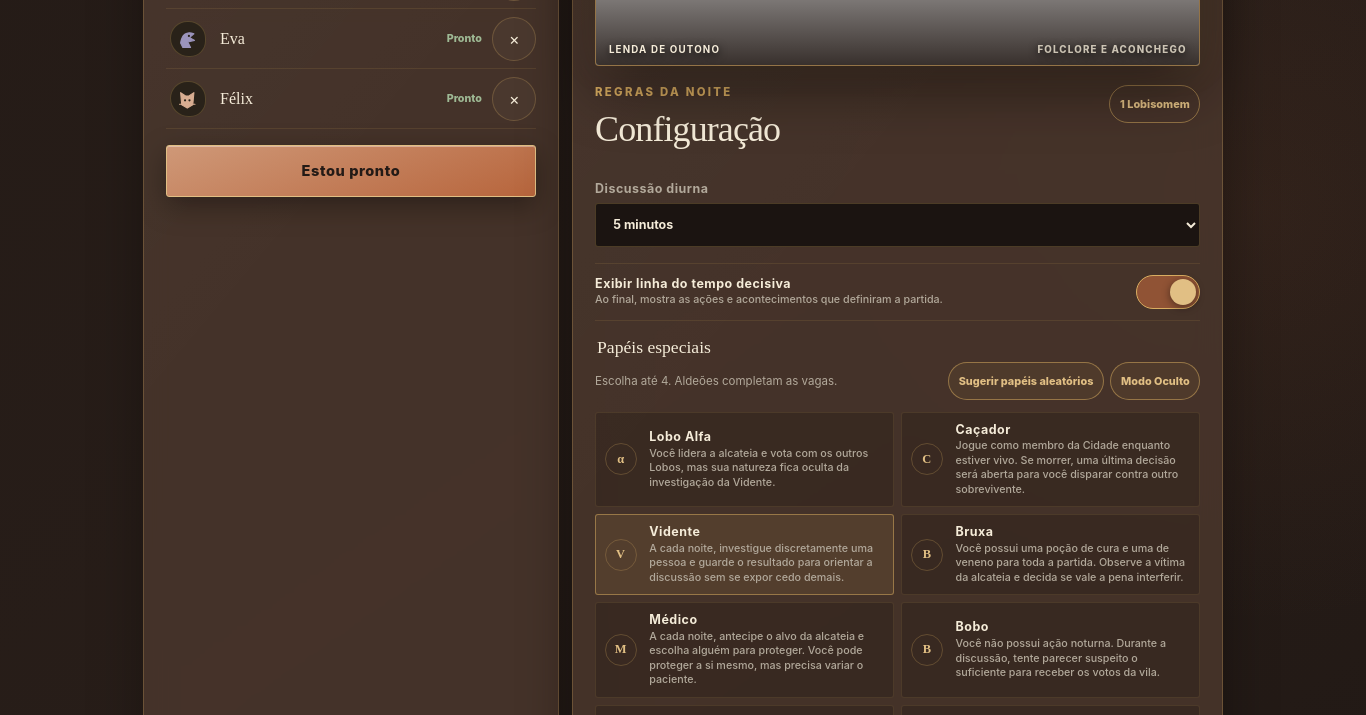
lobby › sorteia uma composição equilibrada sem revelar os papéis no modo oculto
(page scrolled)
Click the button "Modo Oculto".
click(1155, 381)  # box [1110, 362, 1200, 400]
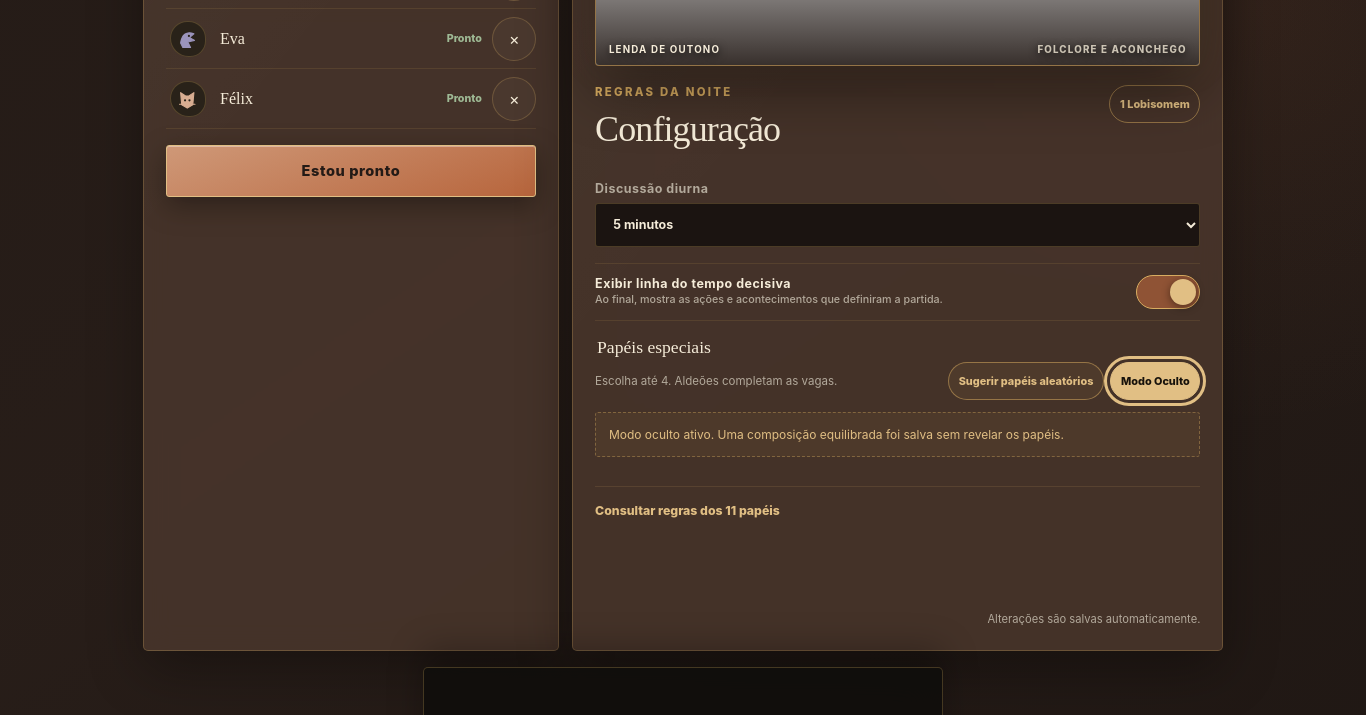
Result: the text labelled "Vidente" is gone
Result: the text "Modo oculto ativo" is shown at [609, 426, 1064, 442]
